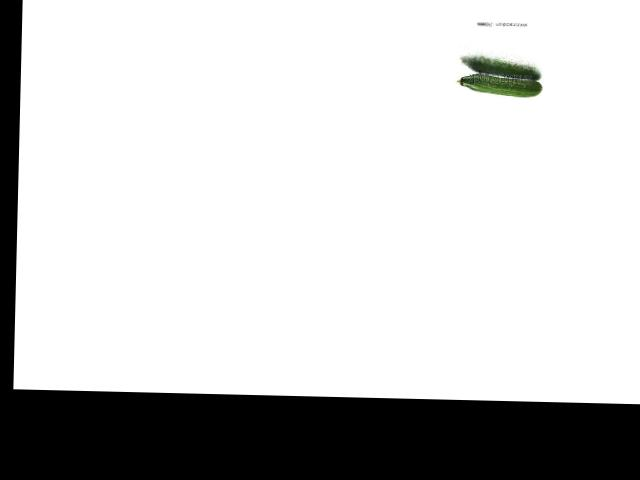cucumber: (456, 72, 541, 97)
